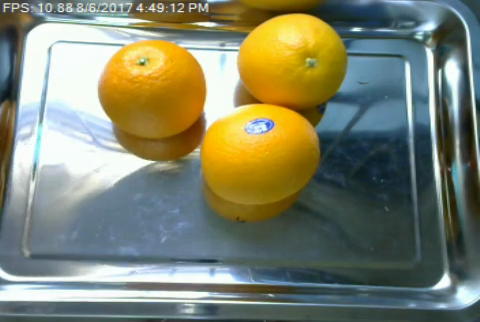Orange: (200, 104, 319, 204), (235, 14, 347, 109), (97, 40, 205, 137)
